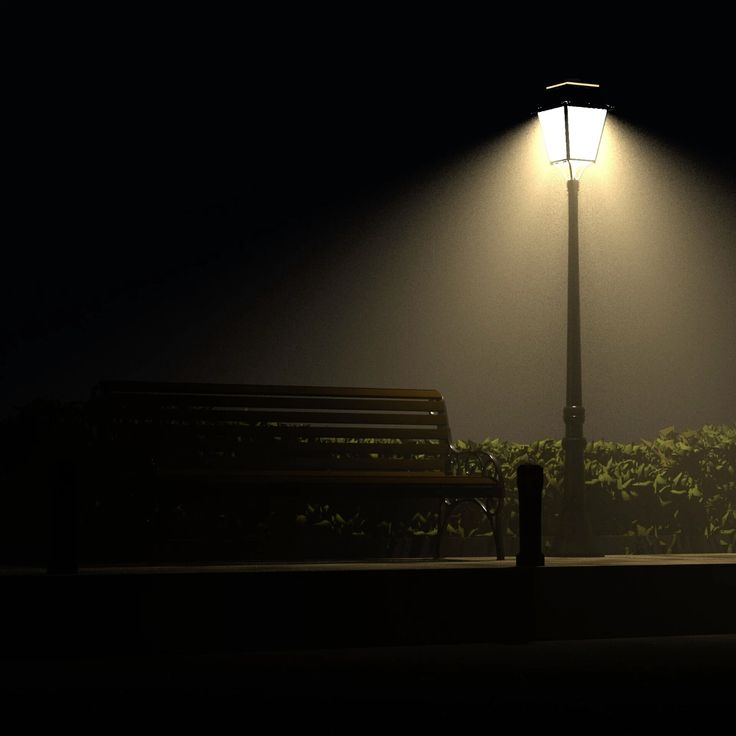Lamp: (513, 70, 650, 566)
